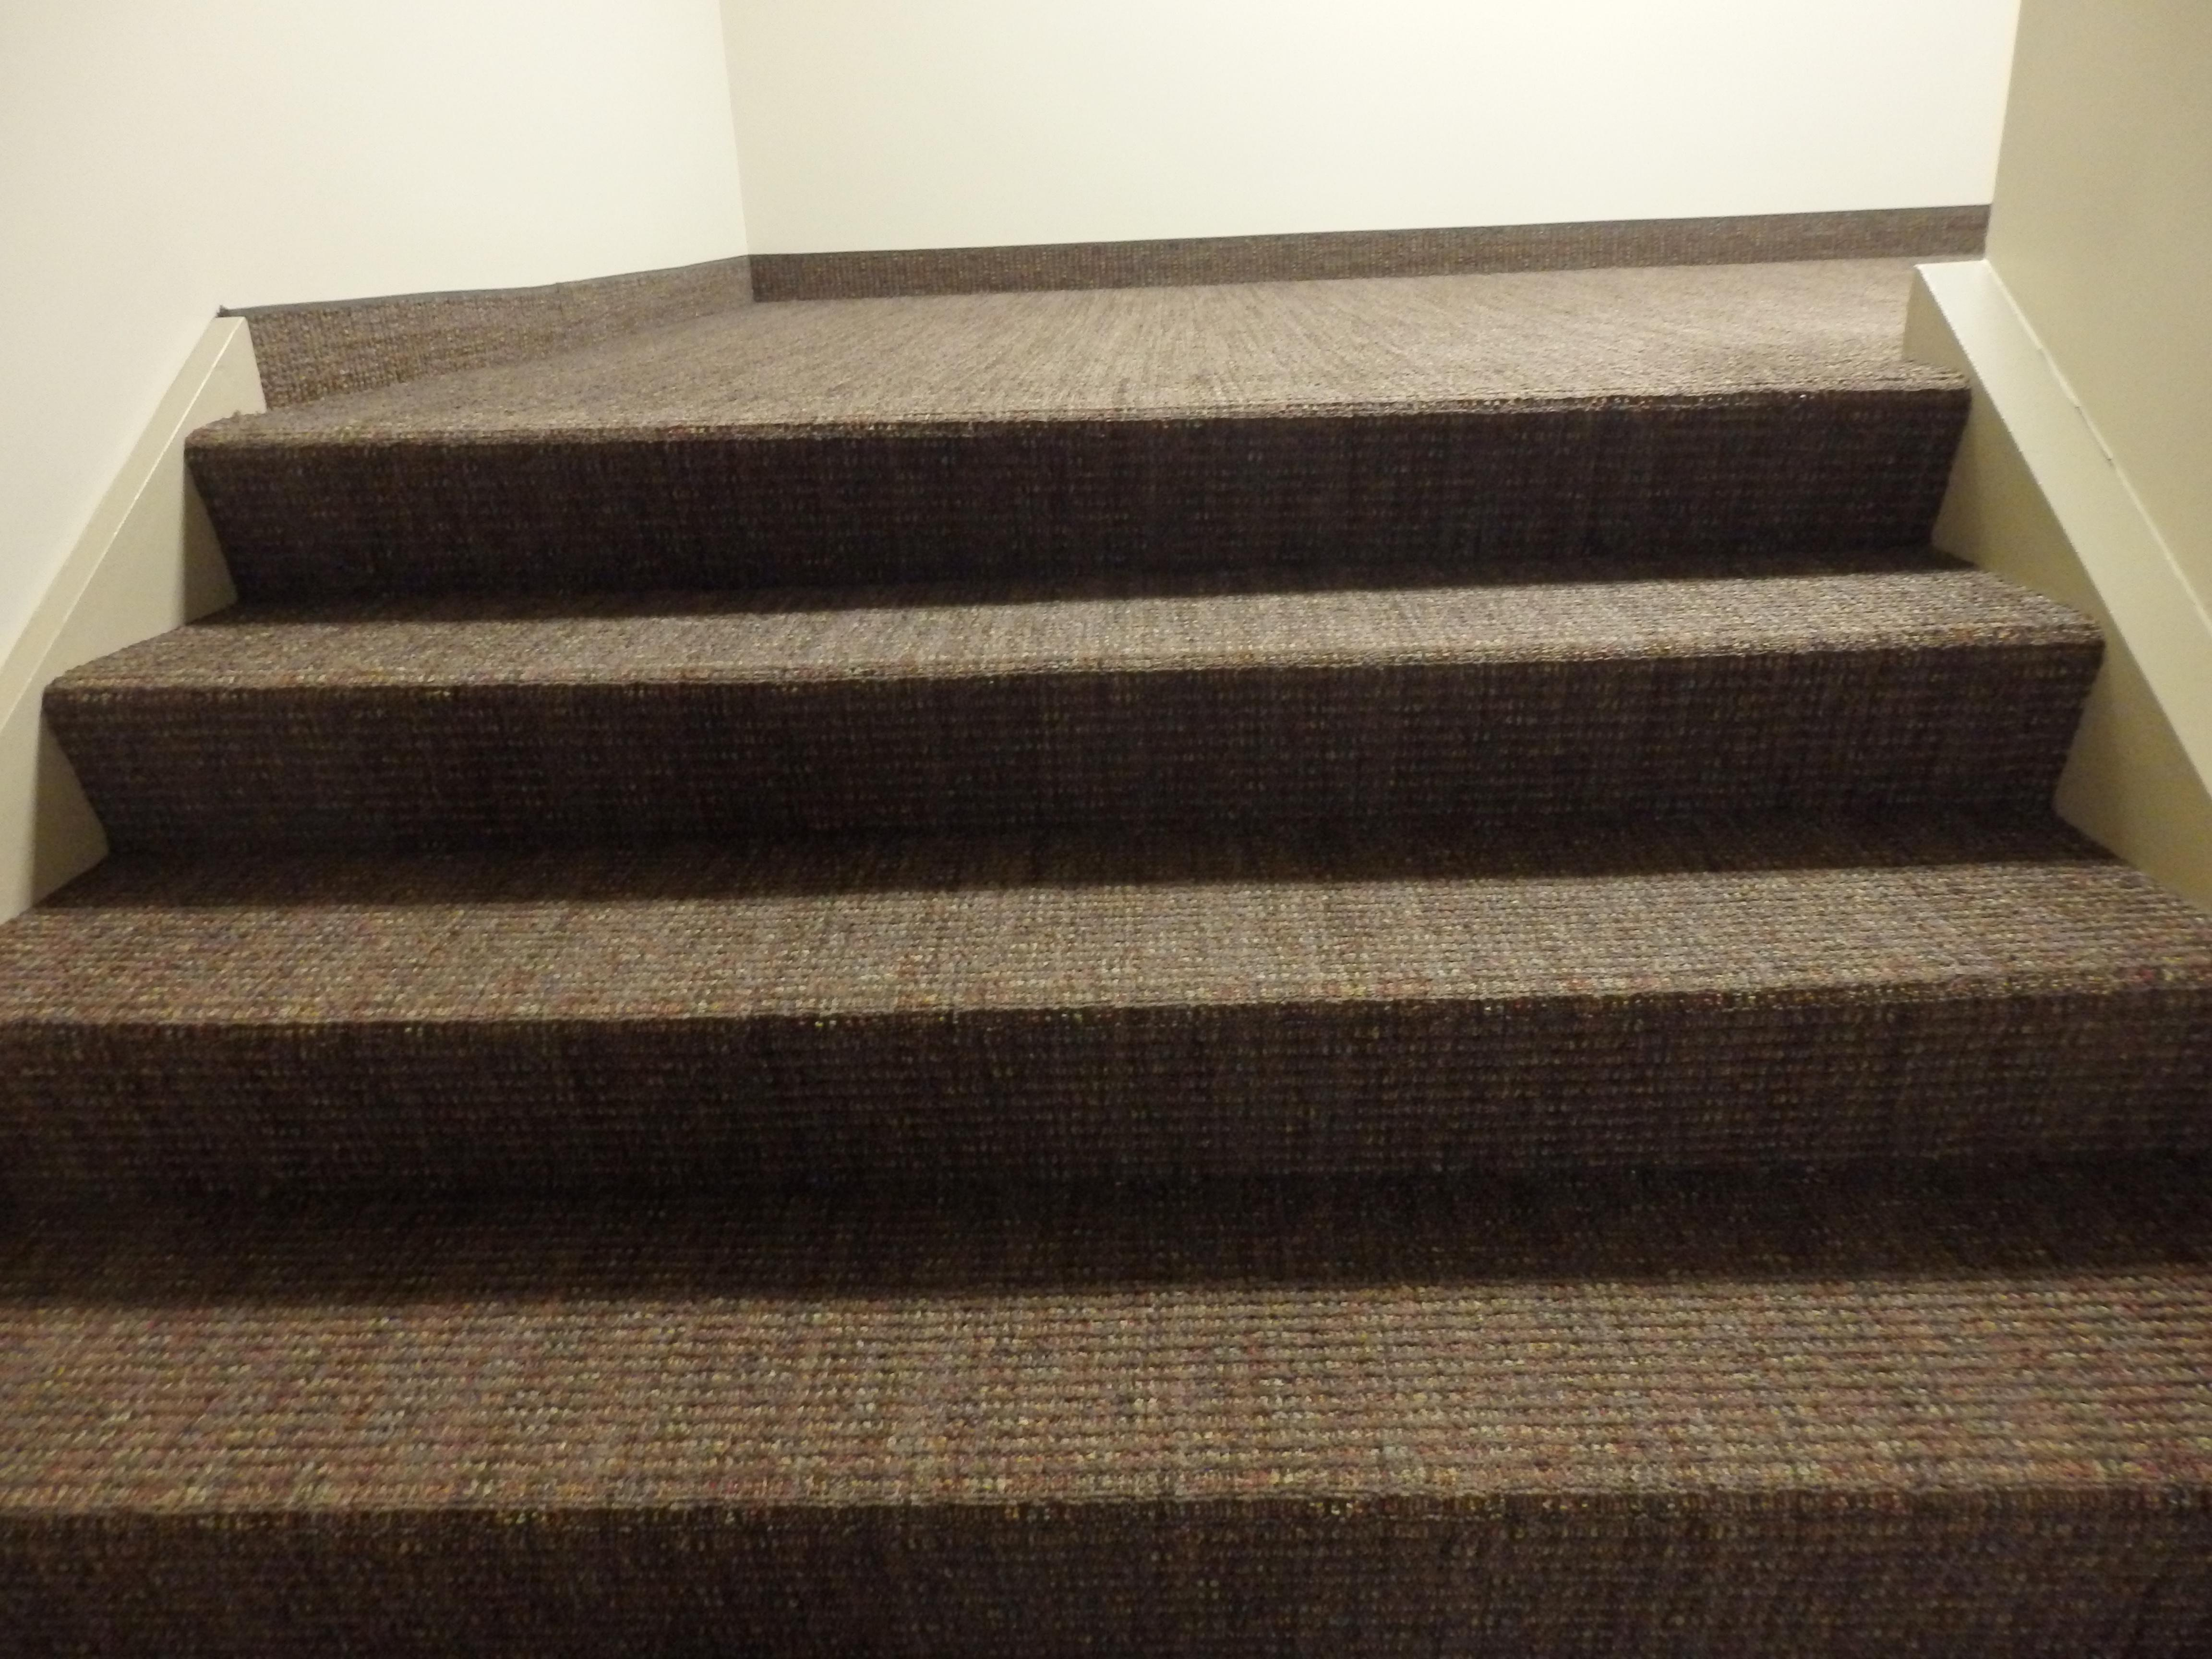stairs_up: (33, 298, 2155, 1539)
